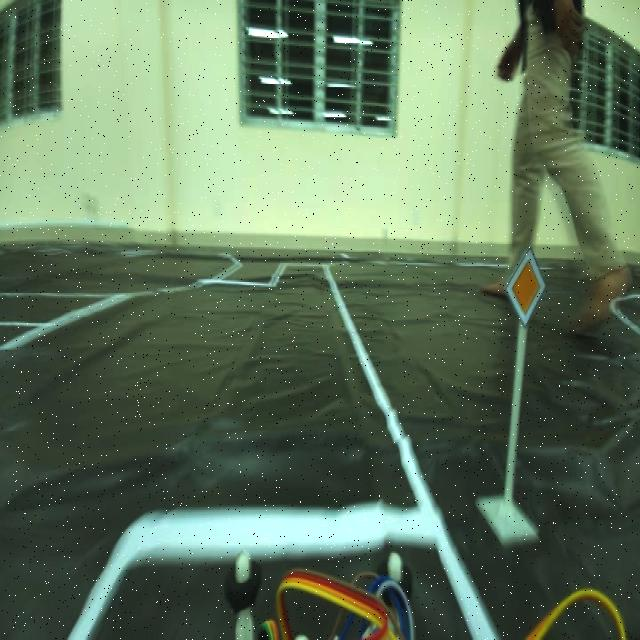priority: (504, 255, 548, 314)
